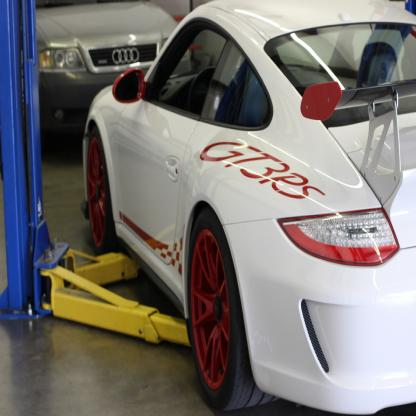Car: (81, 1, 416, 416), (22, 1, 180, 156)
